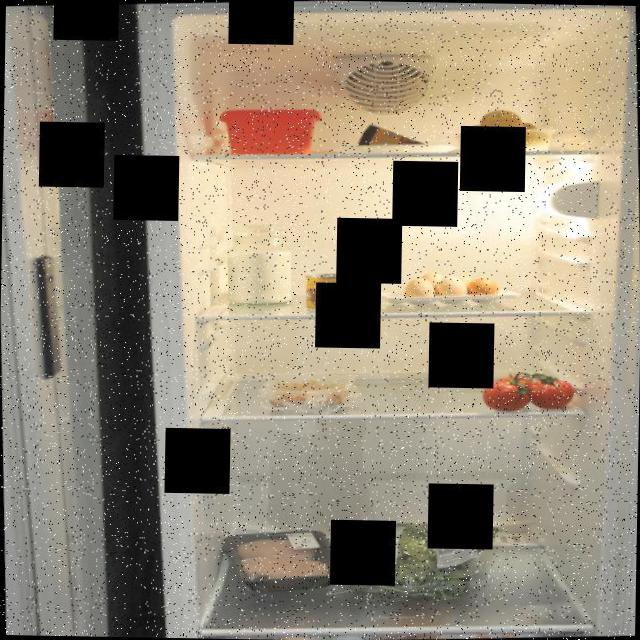Carne pollo: (236, 530, 334, 588)
Gambas/Langostinos: (264, 373, 352, 413)
Huevos: (399, 268, 500, 308)
Mantequilla: (216, 104, 324, 159)
Queso: (353, 122, 430, 154)
Tomate: (478, 366, 576, 413)
corn: (304, 270, 356, 314)
spinach: (328, 517, 504, 603)
sugar: (222, 220, 297, 306)
sweet_potato: (452, 105, 557, 156)
